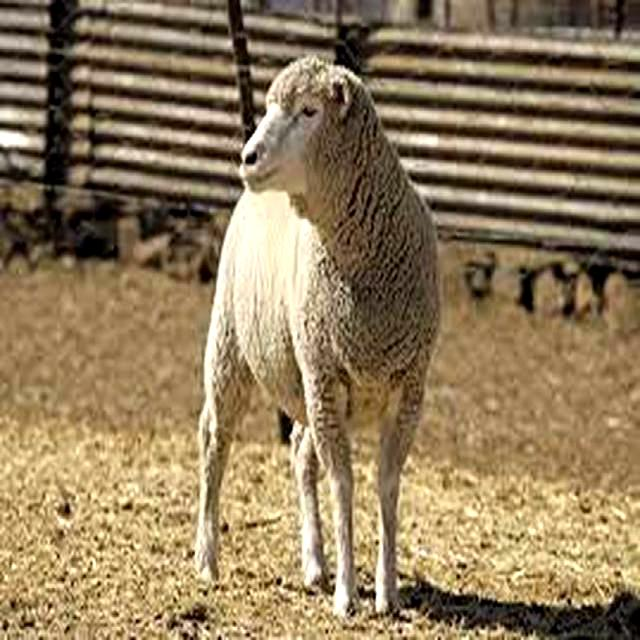sheep: (196, 58, 442, 622)
